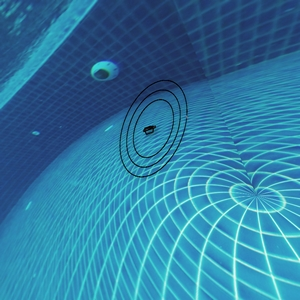circle: (101, 66, 201, 184)
